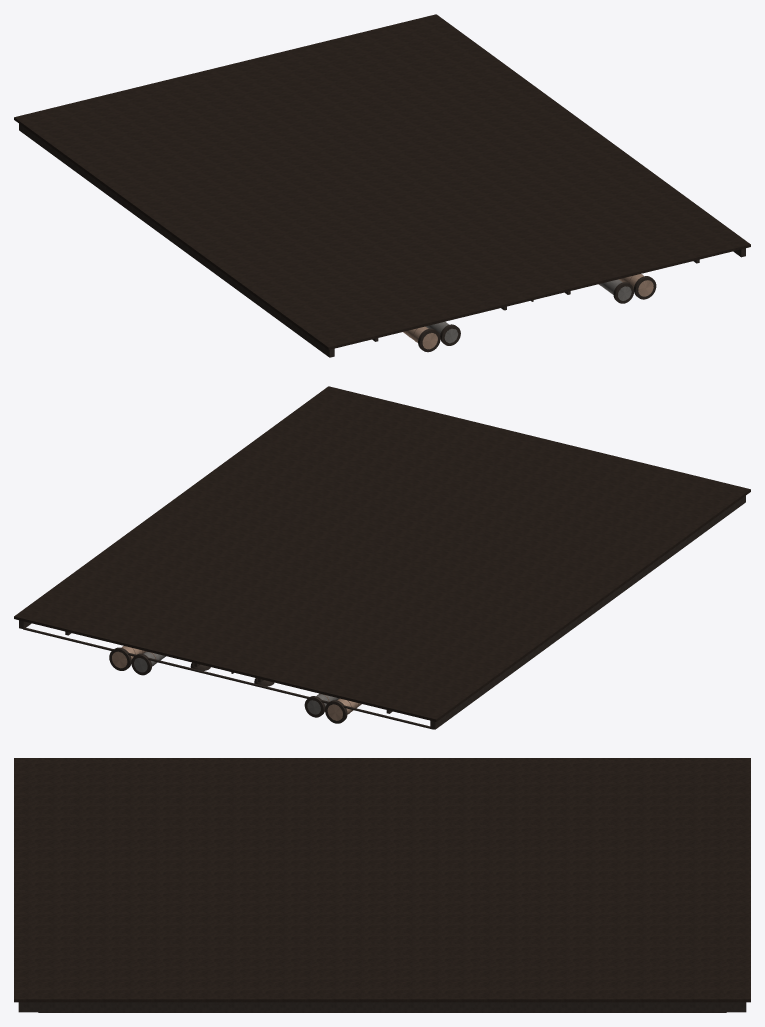
File: arkade-ceiling.glb
3 renders of one model, top to bottom at view 1: azimuth 30°, elevation 25°; view 2: azimuth 150°, elevation 25°; view 3: azimuth 270°, elevation 25°, orthographic. The views are drawn at different scales.
Visible parts, largest first — view 1: Charcoal ceiling deck, Blackened steel hardware, Satin bronze ductwork, Brushed gunmetal conduit; view 2: Charcoal ceiling deck, Blackened steel hardware, Satin bronze ductwork, Brushed gunmetal conduit; view 3: Charcoal ceiling deck, Blackened steel hardware.
Boxes of the visible parts, x1,y1,x2,y2 form: Charcoal ceiling deck: (14, 14, 750, 349); Blackened steel hardware: (19, 124, 745, 357); Satin bronze ductwork: (403, 274, 653, 349); Brushed gunmetal conduit: (426, 279, 631, 343); Charcoal ceiling deck: (14, 386, 750, 721); Blackened steel hardware: (19, 496, 745, 729); Satin bronze ductwork: (112, 646, 361, 720); Brushed gunmetal conduit: (134, 651, 339, 714); Charcoal ceiling deck: (14, 758, 750, 1002); Blackened steel hardware: (18, 1002, 746, 1012).
Bounding box in the file's own units: 13.94 × 1.36 × 17.98.
8 materials, 6 textured.
